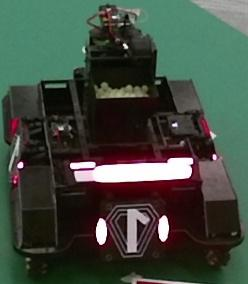armor_1: (96, 215, 170, 247)
light: (70, 157, 194, 184)
